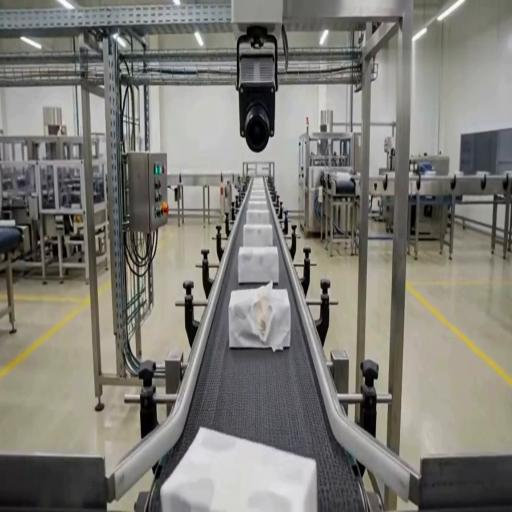defective: (228, 284, 291, 350)
good: (162, 424, 316, 512), (237, 245, 279, 285), (242, 223, 274, 248), (244, 209, 271, 226), (246, 194, 269, 211), (248, 182, 268, 196)
